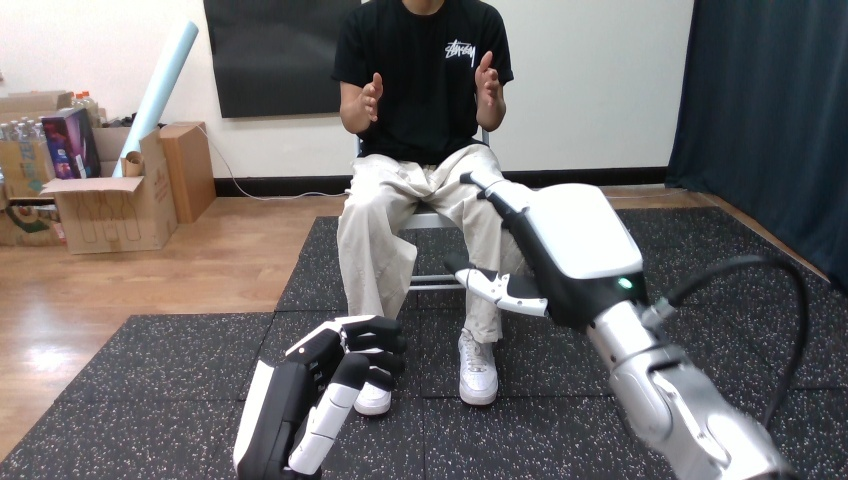left robot hand: (445, 171, 807, 478), (233, 315, 405, 479)
